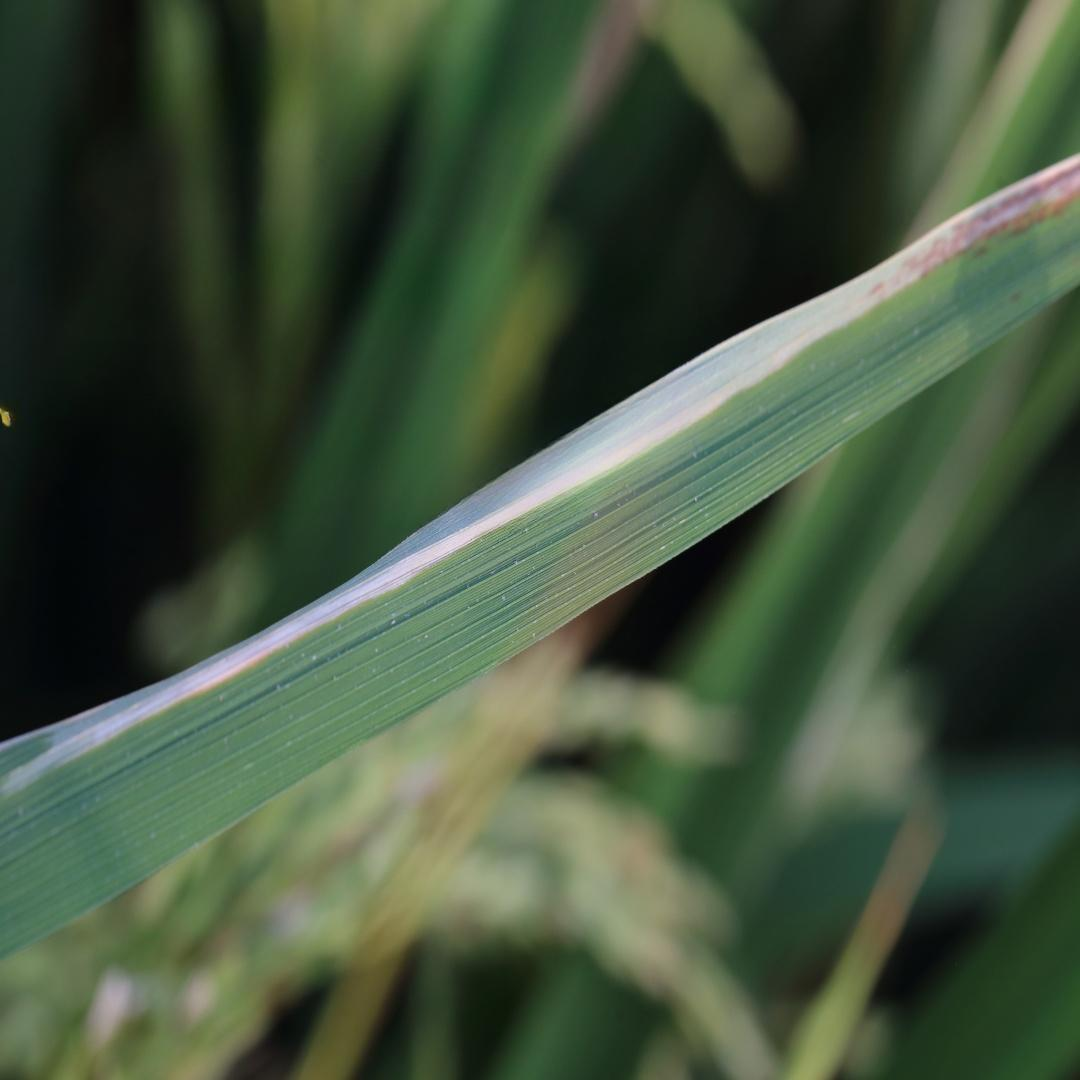BLB: (1, 156, 1077, 800)
LEAF: (0, 154, 1079, 957)
